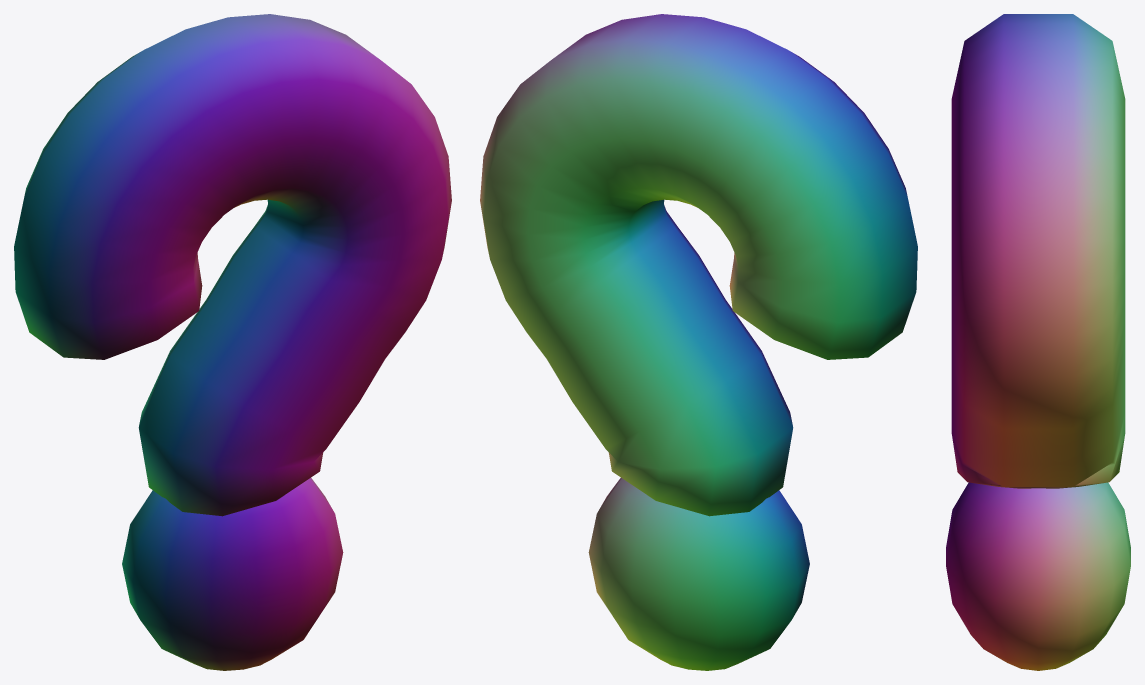
The model's file is SM_UI_QuestMarker_QuestGrey.fbx.
3 renders of one model, left to right at view 1: azimuth 30°, elevation 25°; view 2: azimuth 150°, elevation 25°; view 3: azimuth 270°, elevation 25°, orthographic.
Parts seen in each view (by area): view 1: SM_UI_QuestMarker_QuestGrey; view 2: SM_UI_QuestMarker_QuestGrey; view 3: SM_UI_QuestMarker_QuestGrey.
Part boxes in pixels (bbox=[...]): SM_UI_QuestMarker_QuestGrey: bbox=[14, 14, 451, 670]; SM_UI_QuestMarker_QuestGrey: bbox=[480, 14, 917, 670]; SM_UI_QuestMarker_QuestGrey: bbox=[946, 14, 1130, 670].
Size of the model in its own units: 0.2686 by 0.4009 by 0.1075.
